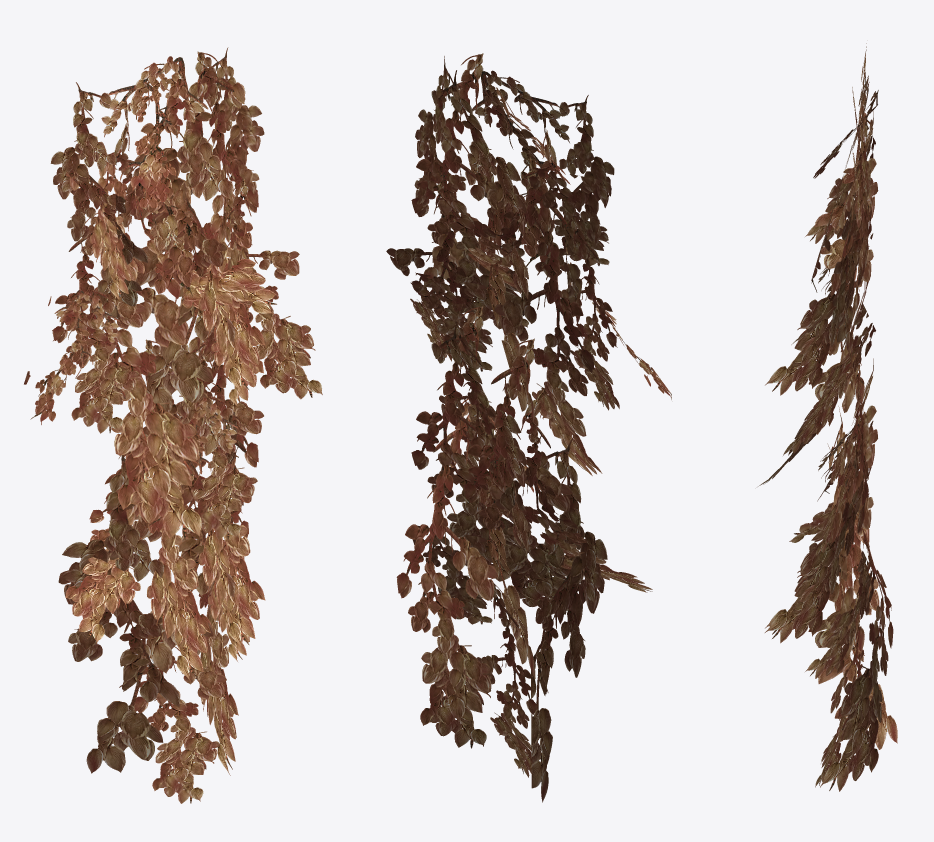
The model's file is ivy06_lod1.fbx.
3 views of the same model, side by side, from view 1: azimuth 30°, elevation 25°; view 2: azimuth 150°, elevation 25°; view 3: azimuth 270°, elevation 25° (orthographic). The views are drawn at different scales.
Visible parts, largest first — view 1: Mesh Object; view 2: Mesh Object; view 3: Mesh Object.
Part boxes in pixels (x1,y1,x2,y2): Mesh Object: [24, 47, 322, 803]; Mesh Object: [386, 53, 671, 802]; Mesh Object: [758, 43, 897, 791].
Bounding box in the file's own units: 0.772 × 1.95 × 0.5063.
